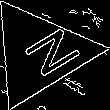N_SW: (4, 22, 75, 83)
